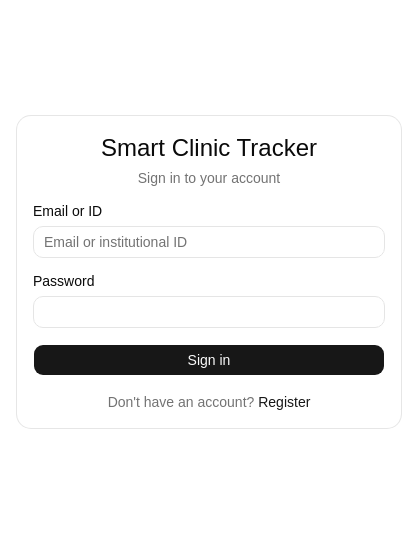
Test: Login › sends resend request and shows confirmation
In the field labelled "Email or ID": (209, 242) x1=33 y1=226 x2=385 y2=258, type "user@test.com"
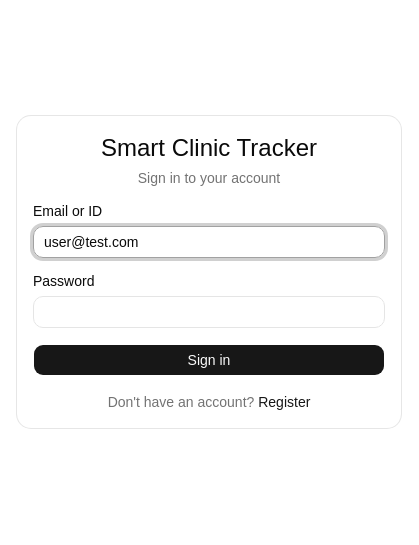
In the password field labelled "Password": (209, 312) x1=33 y1=296 x2=385 y2=328, type "wrongpass"
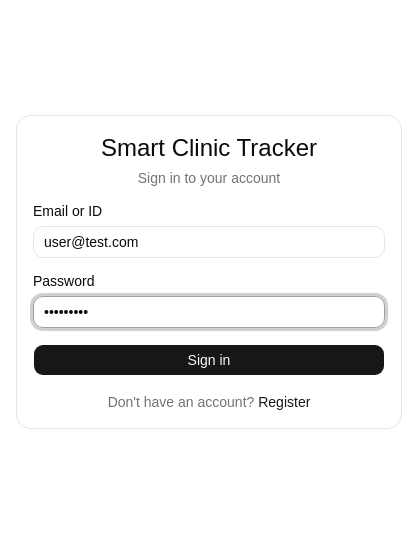
Click the button "Sign in": (209, 360) x1=33 y1=344 x2=385 y2=376
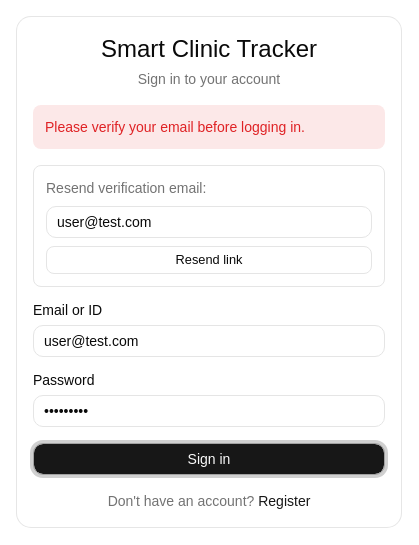
expect the button "Resend link" is shown: met
Click the button "Resend link": (209, 260) x1=46 y1=246 x2=372 y2=274
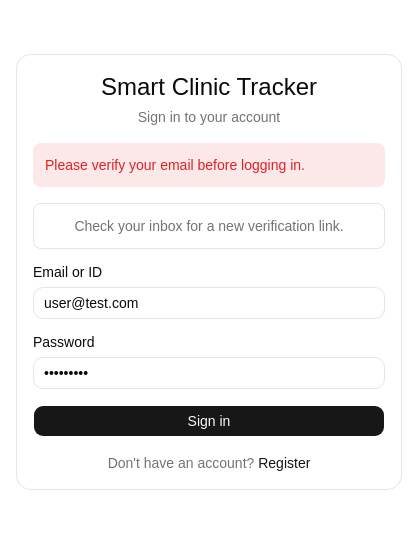
expect the text "Check your inbox for a new verification link." is shown: met, box x1=74 y1=218 x2=344 y2=234
